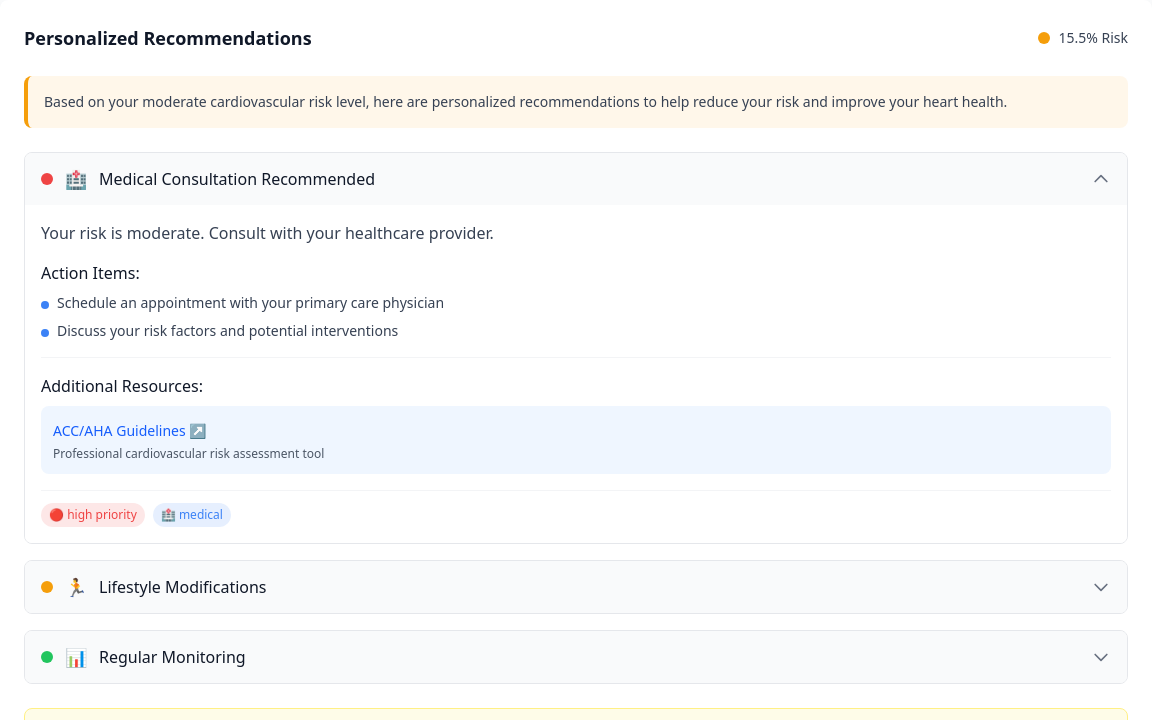
Test: Recommendations › toggles recommendation expansion on click
This screenshot has width=1152, height=720.
Check: the text "Implement comprehensive lifestyle changes." is not shown
# Click to expand
Click the button "🏃 Lifestyle Modifications": (183, 587) [25,561,1127,613]
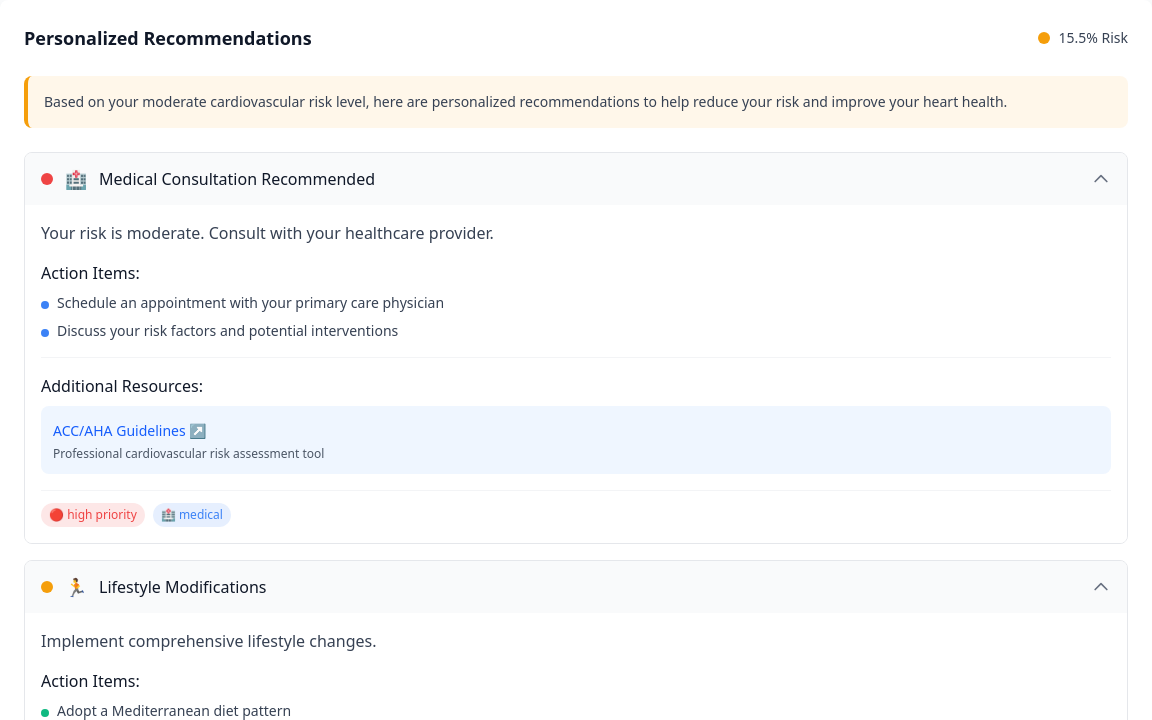
Check: the text "Implement comprehensive lifestyle changes." is shown, box [41,630,376,652]
Check: the text "Adopt a Mediterranean diet pattern" is shown, box [57,701,291,719]
